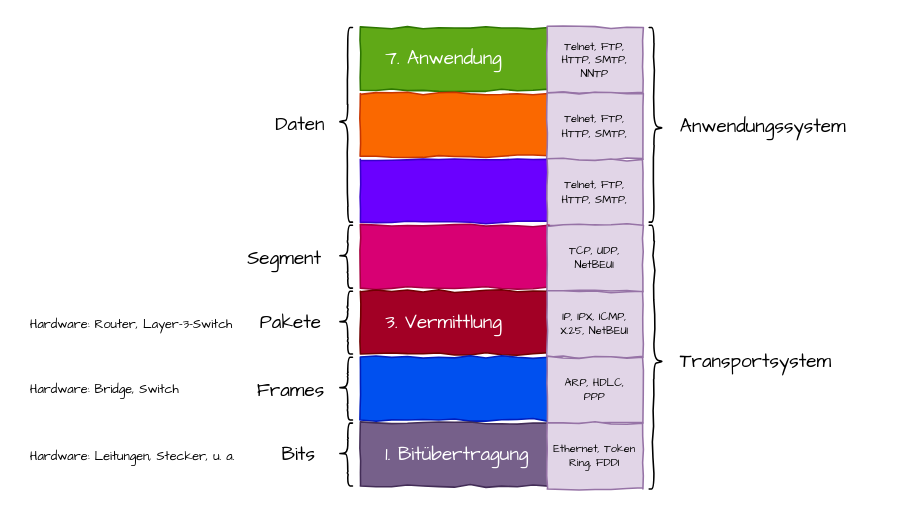
The diagram is 903 pixels wide and 518 high, and some of its shapes have lost their labels. Here are the shapes that lost their labels. From the top down, the centre of each, then its label:
At (454,124): "6. Darstellung".
At (454,190): "5. Sitzung".
At (454,256): "4. Transport".
At (454,388): "2. Sicherung".
